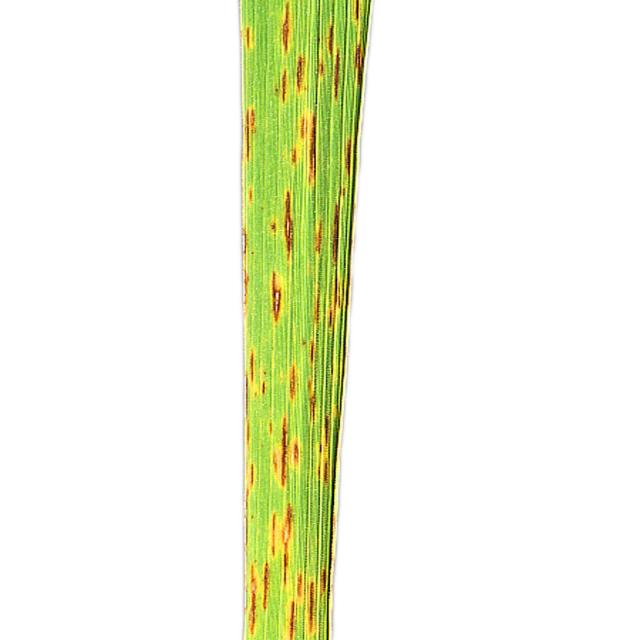Narrow brown: (212, 0, 398, 640)
